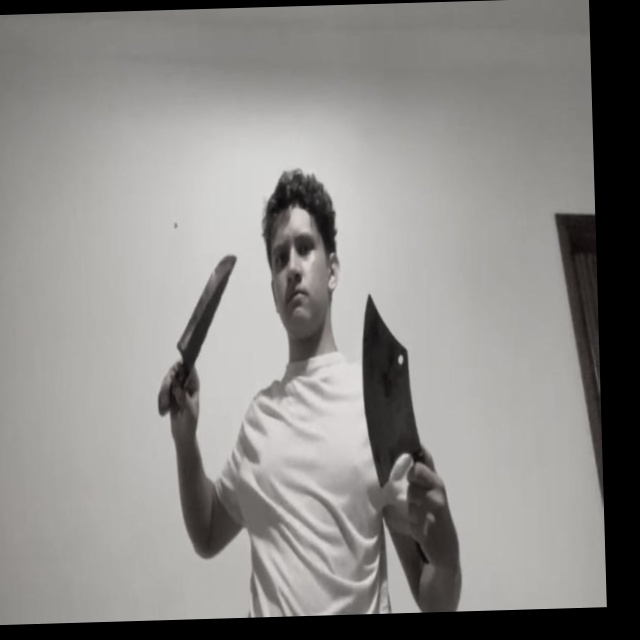Sharp-Object: (359, 287, 413, 487), (175, 253, 240, 351)
